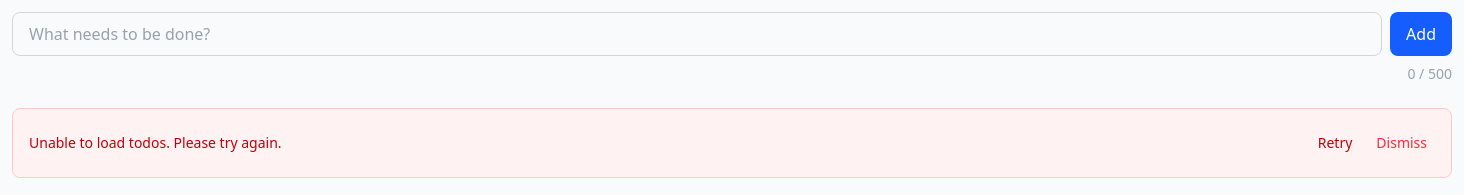
Test: TodoPage › dismisses fetch error when Dismiss is clicked
Click the button "Dismiss": [1402, 143] box [1368, 121, 1435, 165]
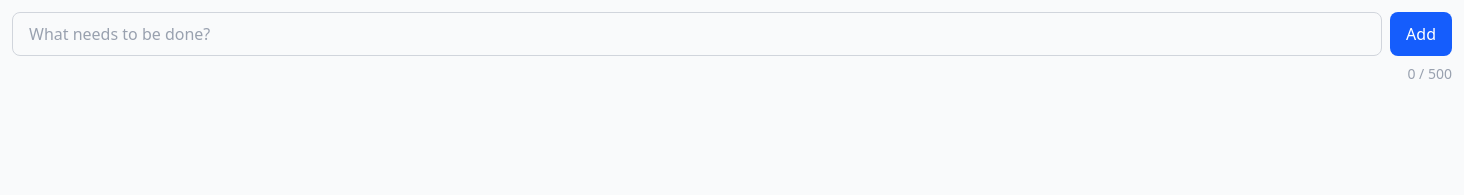
Check: the text "Unable to load todos. Please try again." is gone
